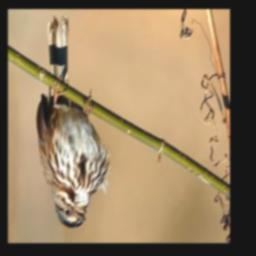Sparrow: (36, 16, 112, 229)
